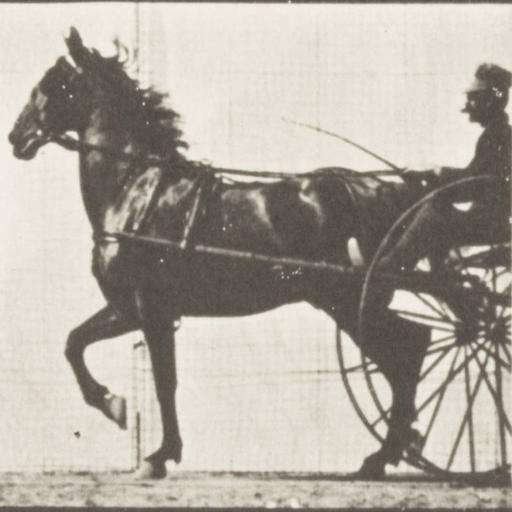horse: (8, 26, 430, 482)
